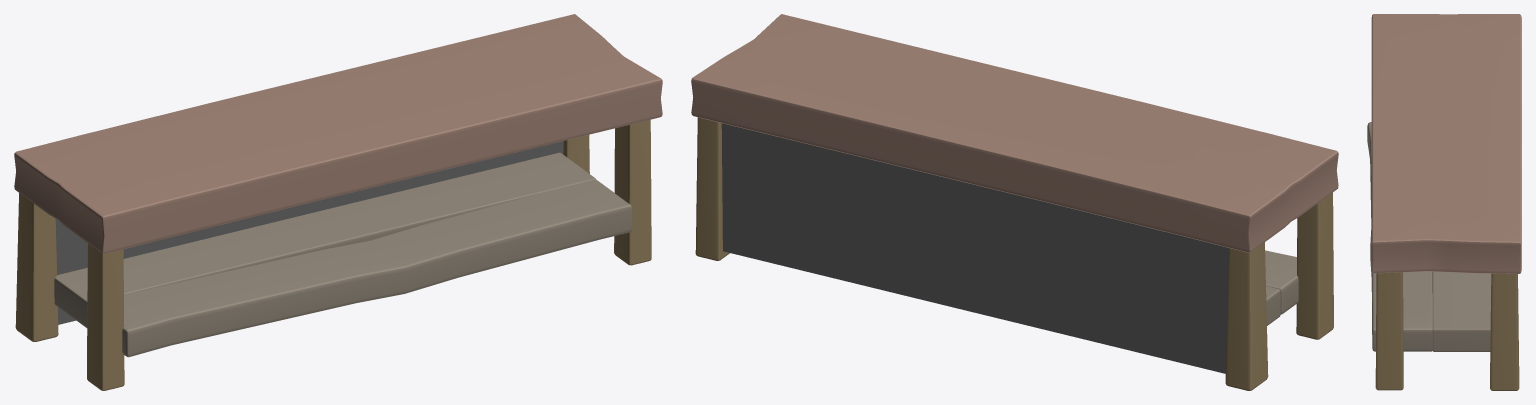
Rendered from table.fbx.
3 views of the same model, side by side, from view 1: azimuth 30°, elevation 25°; view 2: azimuth 150°, elevation 25°; view 3: azimuth 270°, elevation 25° (orthographic). The views are drawn at different scales.
Parts seen in each view (by area): view 1: table_top, bottom_board_2, bottom_board_1, back, leg1, leg4, leg3, leg2; view 2: table_top, back, leg1, leg4, leg2, bottom_board_2; view 3: table_top, bottom_board_1, leg2, leg3, bottom_board_2.
Boxes of the visible parts, x1,y1,x2,y2 form: table_top: (14,14,662,254); bottom_board_2: (122,179,632,357); bottom_board_1: (54,152,596,327); back: (55,141,563,324); leg1: (15,193,58,341); leg4: (87,243,124,390); leg3: (614,119,651,265); leg2: (563,135,589,173); table_top: (691,14,1338,253); back: (721,123,1228,373); leg1: (1225,242,1268,390); leg4: (1296,192,1333,339); leg2: (695,117,729,260); bottom_board_2: (1265,250,1298,314); table_top: (1371,14,1521,273); bottom_board_1: (1432,271,1491,351); leg2: (1490,273,1519,390); leg3: (1375,272,1403,390); bottom_board_2: (1367,122,1432,351).
Bounding box in the file's own units: 17.29 × 5.37 × 4.9.
